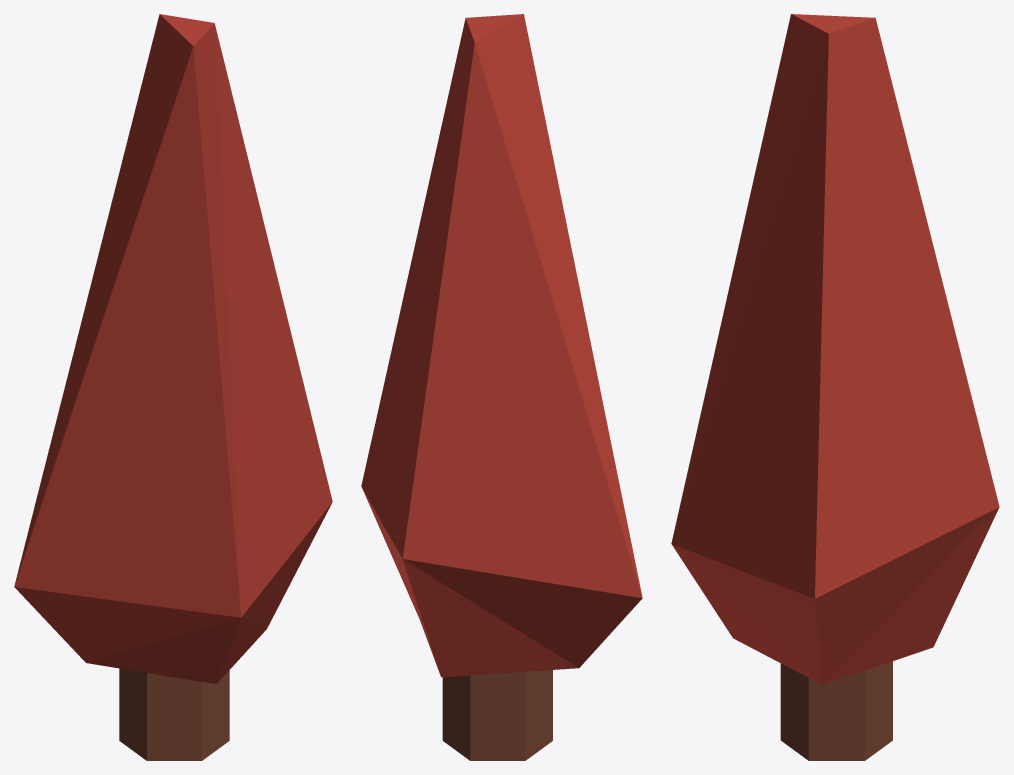
The model's file is Bush_10_summer_red_vc.fbx.
The picture shows the model from 3 angles, left to right: view 1: azimuth 30°, elevation 25°; view 2: azimuth 150°, elevation 25°; view 3: azimuth 270°, elevation 25°; orthographic projection.
Visible parts, largest first — view 1: Bush_10_summer_red_vc; view 2: Bush_10_summer_red_vc; view 3: Bush_10_summer_red_vc.
Part boxes in pixels (x1,y1,x2,y2): Bush_10_summer_red_vc: (14,14,332,760); Bush_10_summer_red_vc: (361,14,642,760); Bush_10_summer_red_vc: (671,14,999,760).
Bounding box in the file's own units: 38.13 × 86.43 × 35.48.
